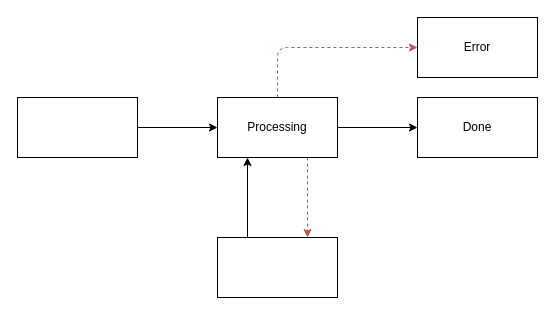
The diagram is 555 pixels wide and 315 high, and some of its shapes have lost their labels. The centre of each missing label's shape, as x and y in pixels:
"Interrupted" goes at (277,267).
"Not Started" goes at (77,127).
